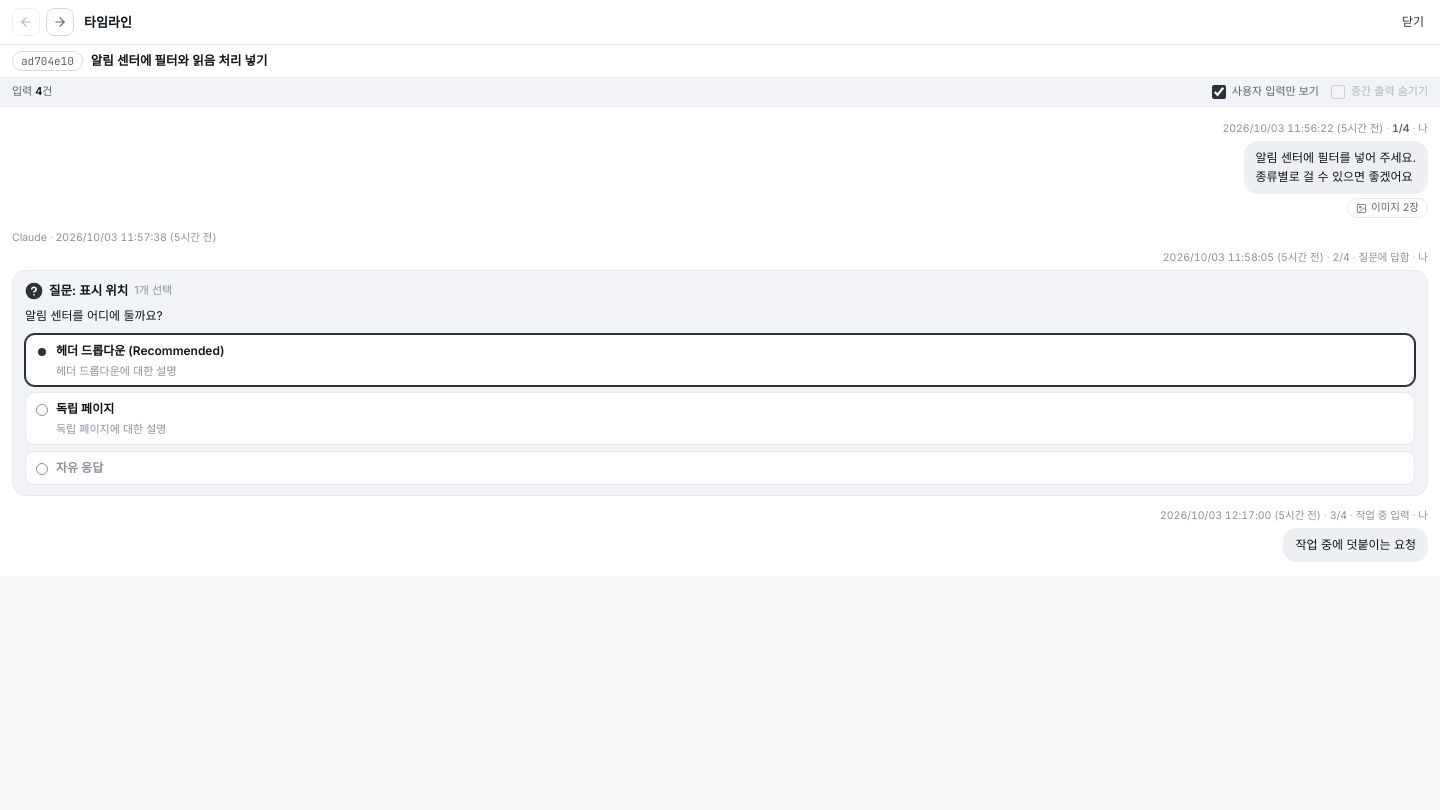
Test: 메시지 모양 › assistant: 왼쪽 "Claude · 시각" 줄과 본문, 중간 출력은 조용한 모양이다
Click the checkbox labelled "사용자 입력만 보기" at point(1219, 92), box x1=1212 y1=85 x2=1226 y2=99
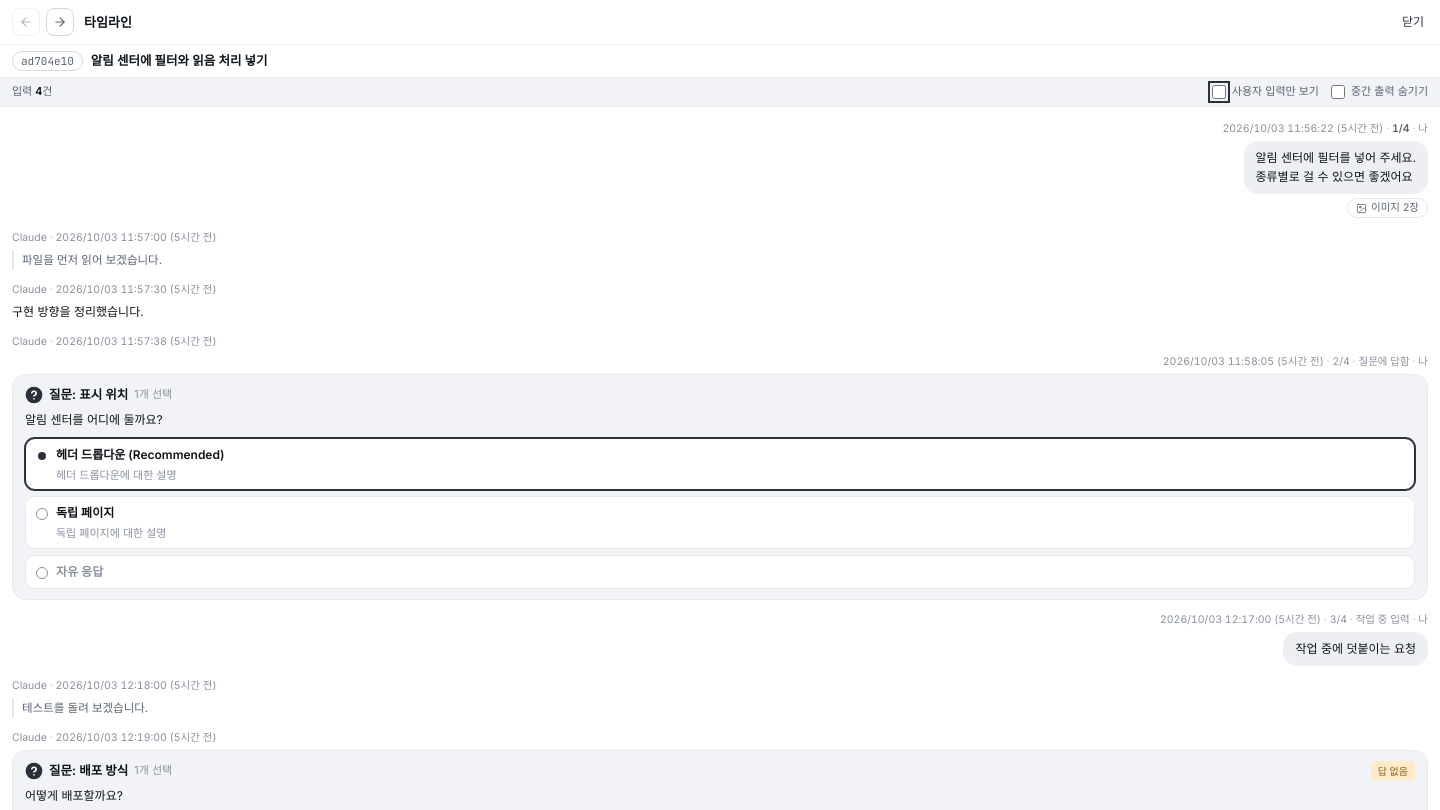
expect the element showing "Claude · 2026/10/03 11:57:30 (5시간 전)" is shown: met, box x1=12 y1=282 x2=216 y2=298
expect the text "파일을 먼저 읽어 보겠습니다." is shown: met, box x1=12 y1=250 x2=1428 y2=270
